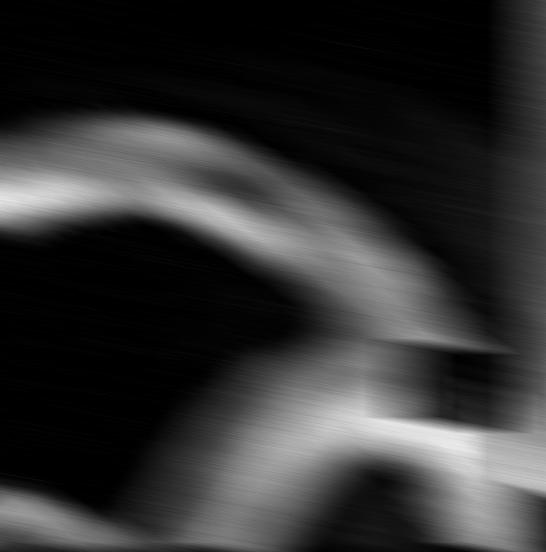Airbag: (0, 0, 545, 552), (522, 0, 546, 552), (0, 548, 545, 552)
